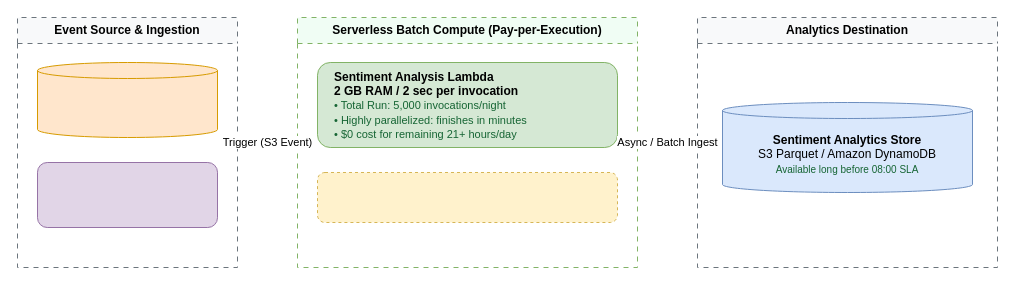
Some shapes in this 1015 by 285 pixel diagram are drawn without their labels. Here are the shapes that lost their labels. From the top down, the centre of each, then its label:
At [127,100]: "Incoming Reviews (S3) Daily manifest or 5k object drops".
At [127,195]: "EventBridge Rule Cron (02:00 UTC) or S3 ObjectCreated Event".
At [467,197]: "Dead-Letter Queue (DLQ) Captures failed inferences for replay".
